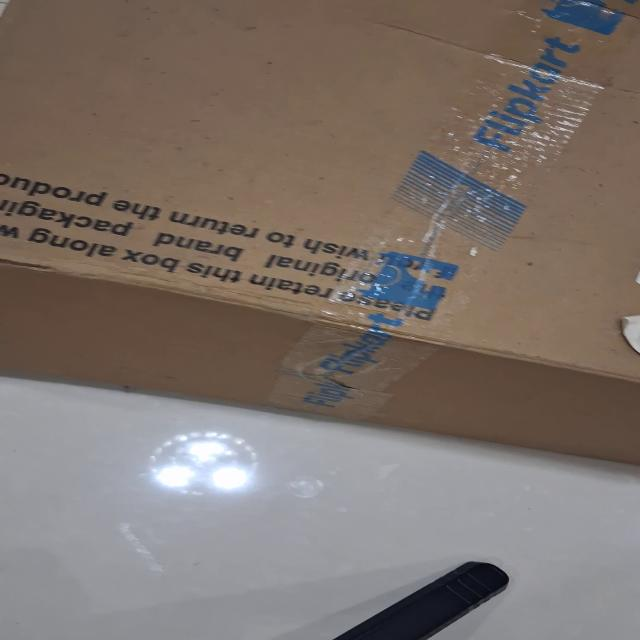paper: (1, 0, 638, 467)
